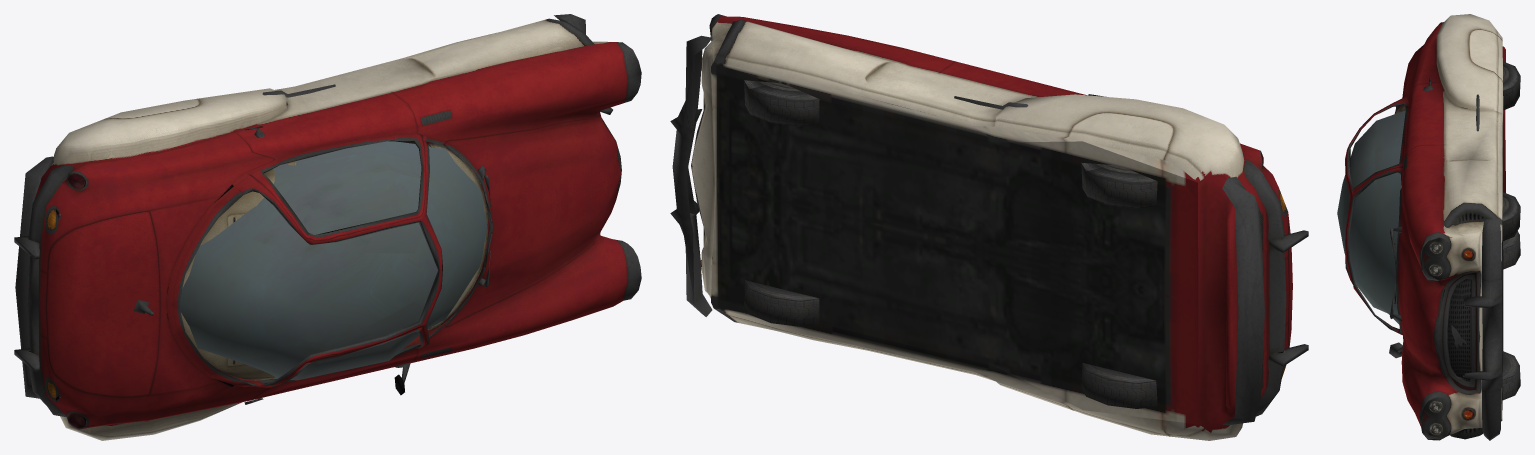
Rendered from nt_2020_car_02_LOD2.obj.
The picture shows the model from 3 angles, left to right: view 1: azimuth 30°, elevation 25°; view 2: azimuth 150°, elevation 25°; view 3: azimuth 270°, elevation 25°; orthographic projection. The views are drawn at different scales.
Visible parts, largest first — view 1: mtl_nt_2020_car_02_exterior, com_glass_clear, mtl_nt_2020_car_02_interior; view 2: mtl_nt_2020_car_02_exterior; view 3: mtl_nt_2020_car_02_exterior, com_glass_clear.
Boxes of the visible parts, box(x1,y1,x2,y2) form: mtl_nt_2020_car_02_exterior: box(14, 14, 641, 440); com_glass_clear: box(179, 141, 487, 380); mtl_nt_2020_car_02_interior: box(181, 140, 489, 380); mtl_nt_2020_car_02_exterior: box(670, 14, 1308, 440); mtl_nt_2020_car_02_exterior: box(1345, 14, 1520, 440); com_glass_clear: box(1337, 110, 1405, 324).
Size of the model in its own units: 504 by 246 by 167.
